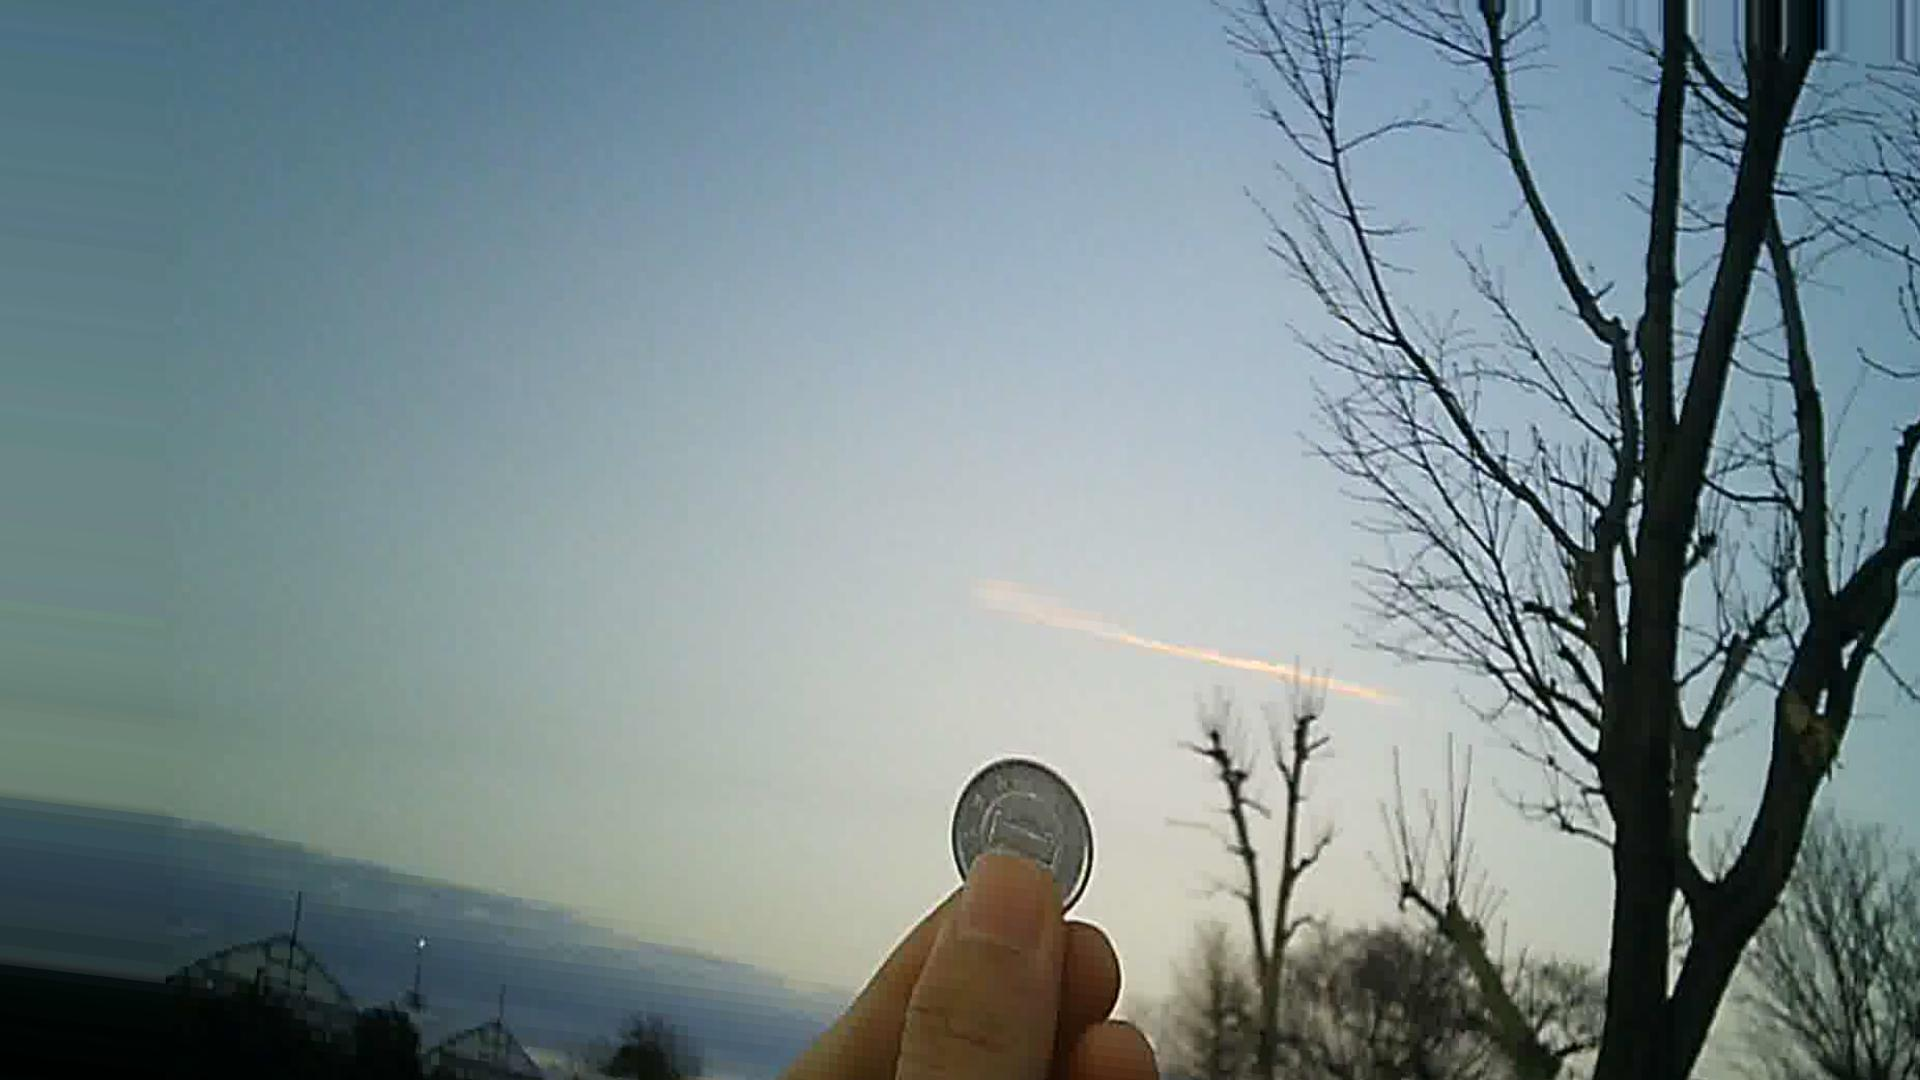1 Yen: (953, 752, 1093, 920)
